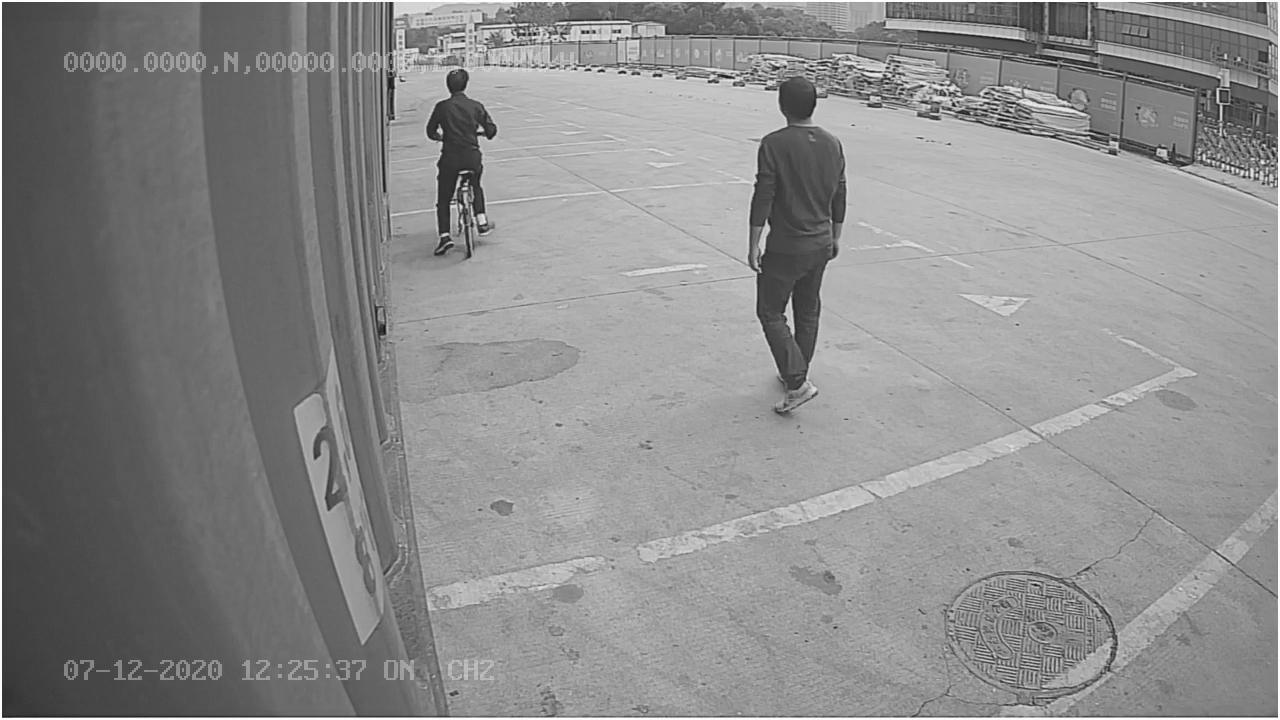person: (740, 71, 855, 417)
